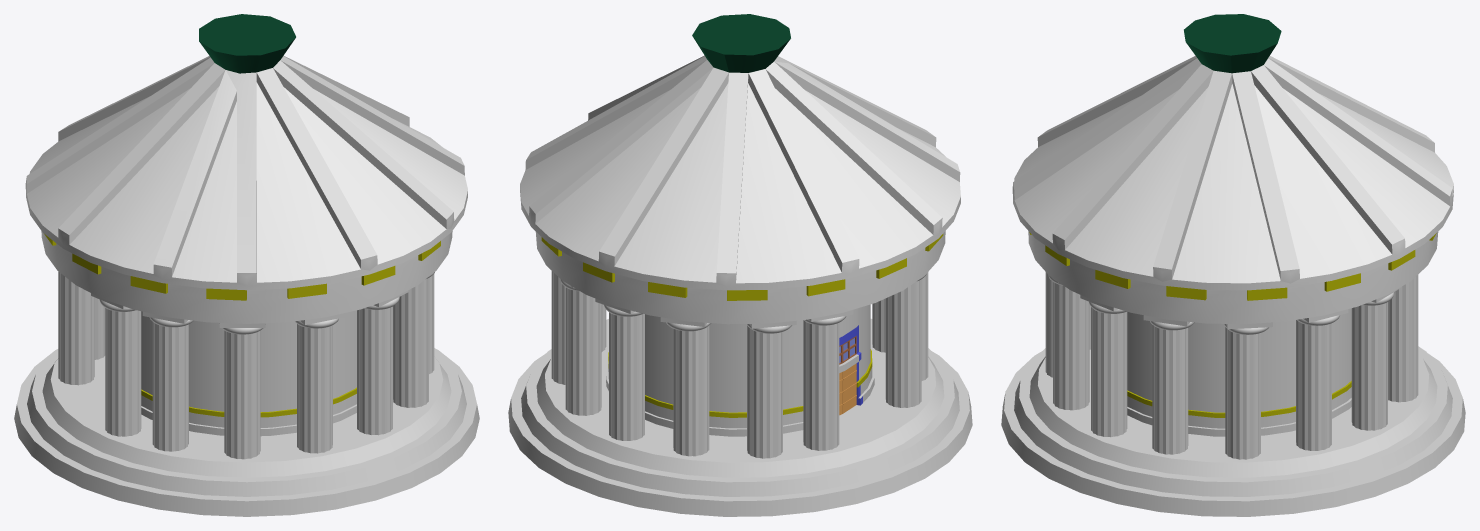
The model's file is uploads_files_3633938_house.fbx.
3 views of the same model, side by side, from view 1: azimuth 30°, elevation 25°; view 2: azimuth 150°, elevation 25°; view 3: azimuth 270°, elevation 25° (orthographic).
Visible parts, largest first — view 1: room; view 2: room; view 3: room.
Boxes of the visible parts, x1,y1,x2,y2 form: room: (14,14,479,516); room: (508,14,972,516); room: (1001,14,1465,516).
Size of the model in its own units: 1098 by 1002 by 1098.
